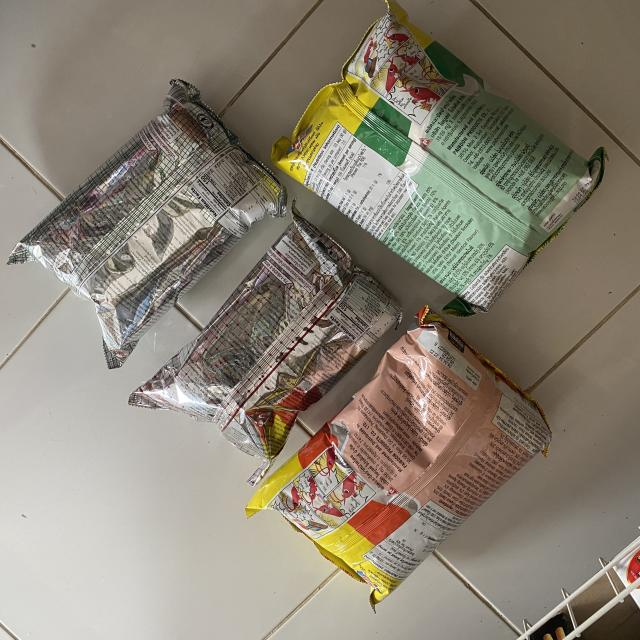plastik: (272, 0, 608, 315), (246, 308, 551, 605), (9, 80, 286, 369), (129, 204, 401, 485)
